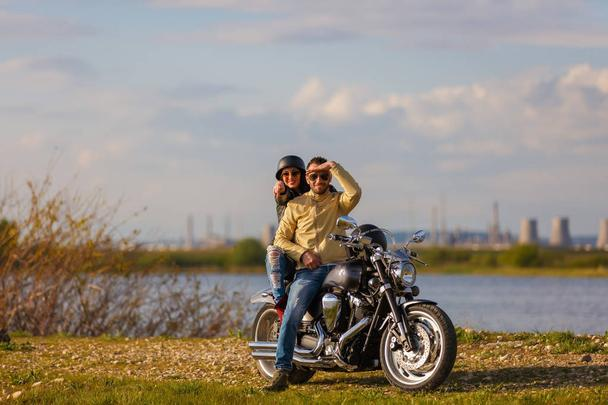helmet: (275, 155, 306, 190)
nohelmet: (304, 156, 335, 195)
